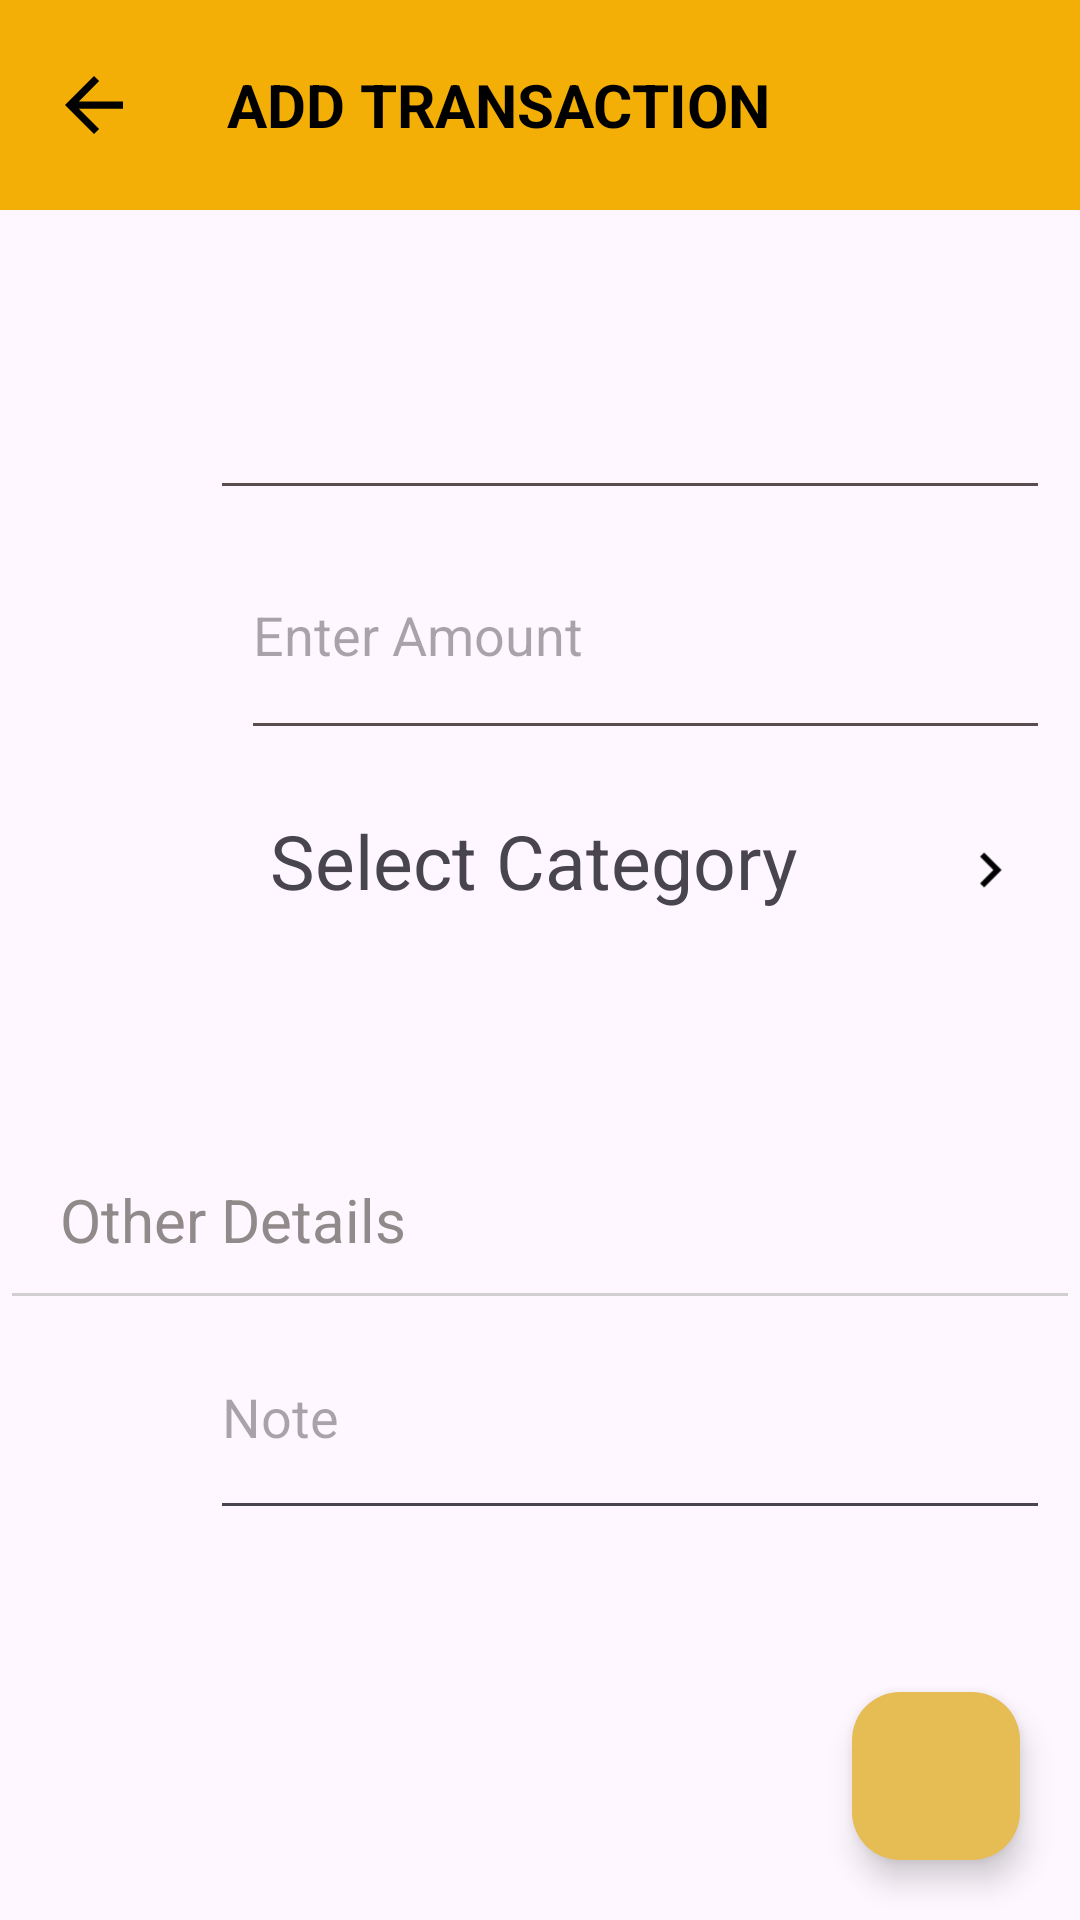

Where to tap for icons on this 1080px x 1920px app screen, as [x,y]:
backarrow: [94,105]
